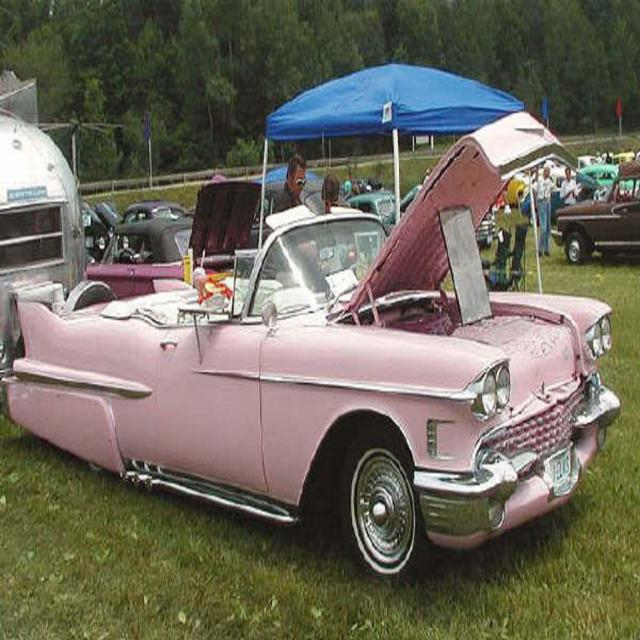other: (12, 124, 617, 587), (86, 150, 639, 300)
